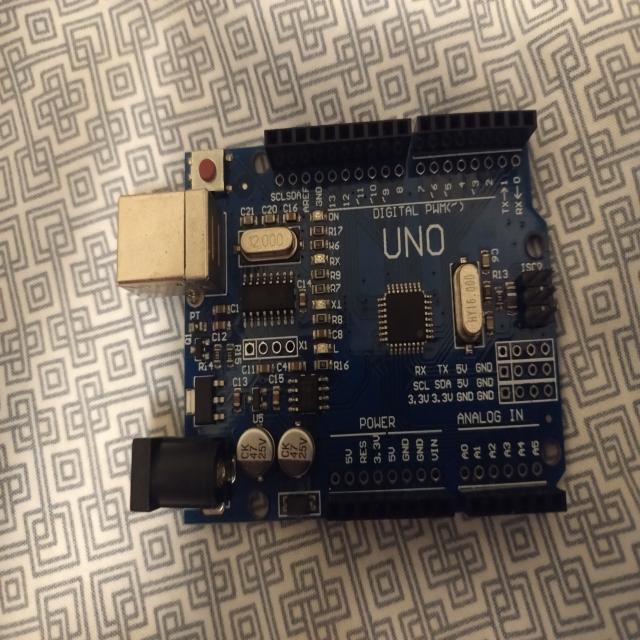arduino: (113, 94, 582, 526)
